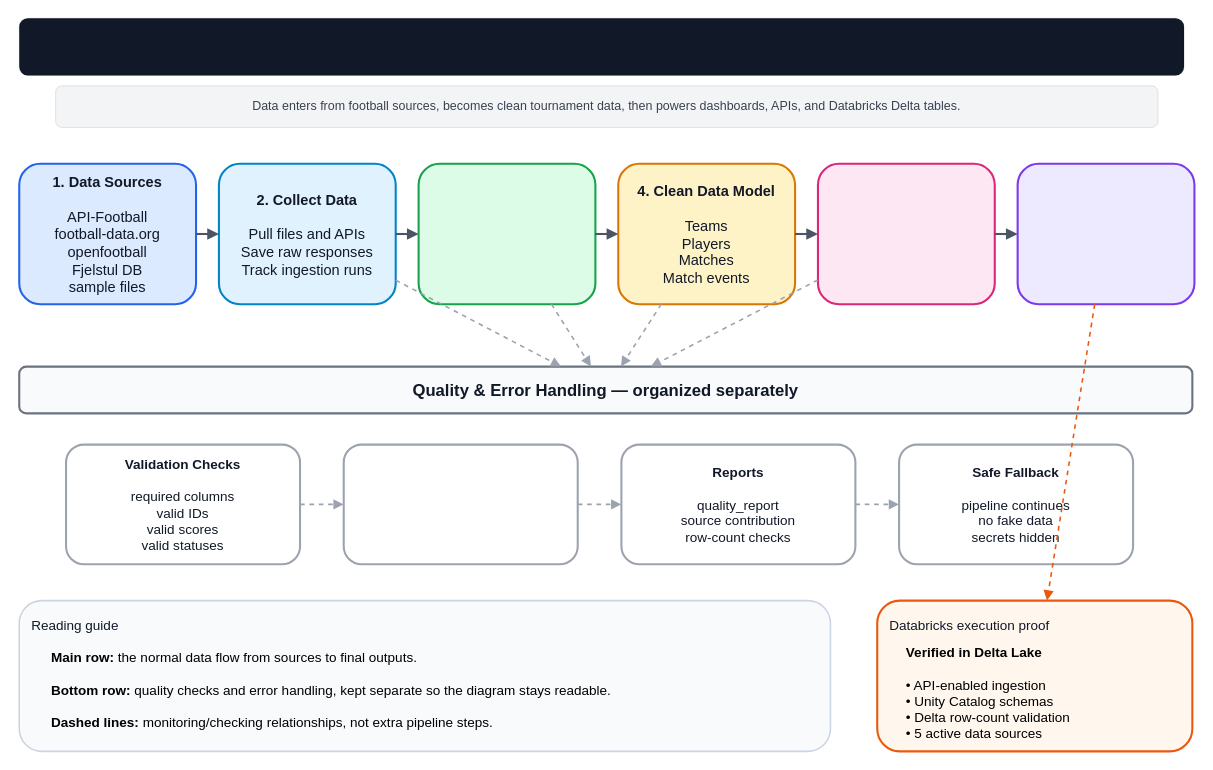
Some shapes in this 1213 by 770 pixel diagram are drawn without their labels. The centre of each missing label's shape, as x and y in pixels:
"3. Event Log One timeline of changes matches, teams, goals, cards, substitutions" belongs at [506,233].
"5. Tournament Logic Group standings Qualification status Tournament state" belongs at [905,233].
"6. User Outputs Streamlit dashboard FastAPI endpoints Databricks Delta tables" belongs at [1105,233].
"Error Log API failures bad records missing fields rate limits" belongs at [460,504].
"WC26 Event Lakehouse — End-to-End Architecture" belongs at [601,46].
